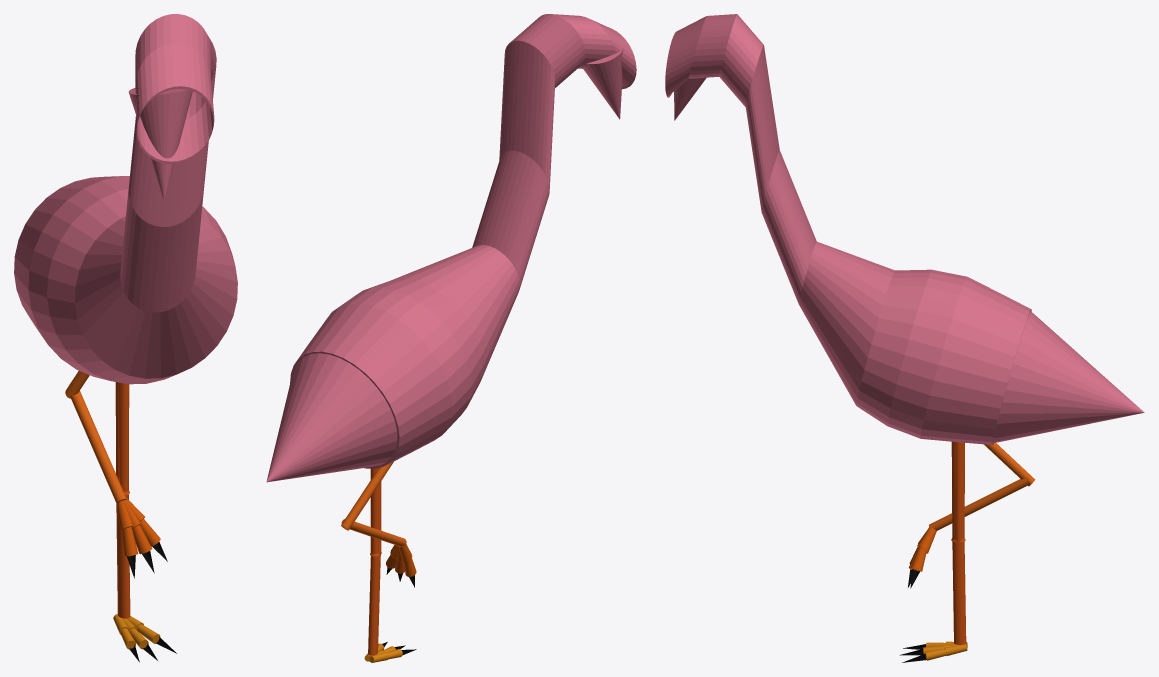
File: Flamingo!.fbx
3 views of the same model, side by side, from view 1: azimuth 30°, elevation 25°; view 2: azimuth 150°, elevation 25°; view 3: azimuth 270°, elevation 25° (orthographic). The views are drawn at different scales.
Visible parts, largest first — view 1: Cylinder.002; view 2: Cylinder.002; view 3: Cylinder.002.
Boxes of the visible parts, x1,y1,x2,y2 form: Cylinder.002: [14, 14, 237, 662]; Cylinder.002: [266, 14, 636, 662]; Cylinder.002: [665, 14, 1144, 662].
Bounding box in the file's own units: 446 × 1314 × 947.
